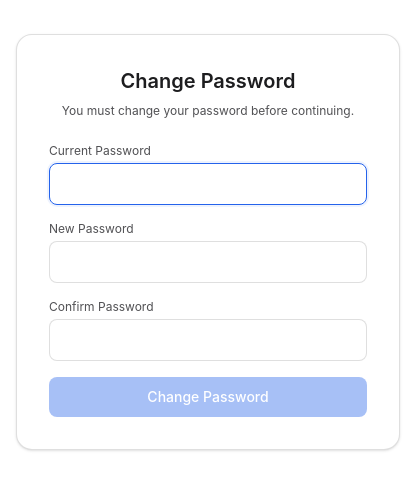
Test: ChangePasswordPage › announces validation errors and associates them with password controls
Type "current" into the password field labelled "Current Password". click: (208, 184)
box: [49,163,367,205]
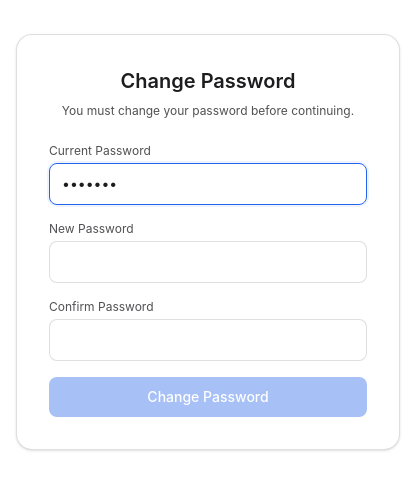
Type "secret" into the password field labelled "New Password". click: (208, 262)
box: [49,241,367,283]
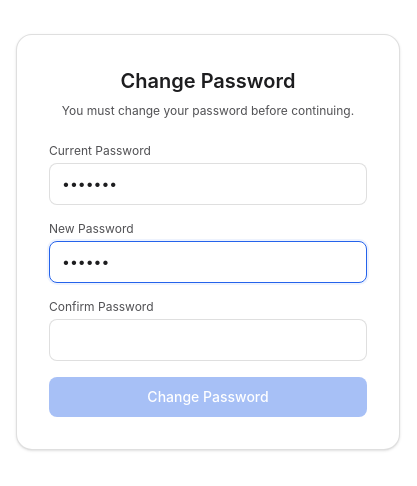
Type "different" into the password field labelled "Confirm Password". click: (208, 340)
box: [49,319,367,361]
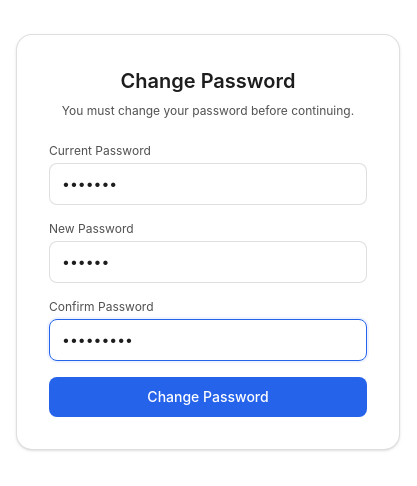
Click the button "Change Password". click: (208, 397)
box: [49,377,367,417]
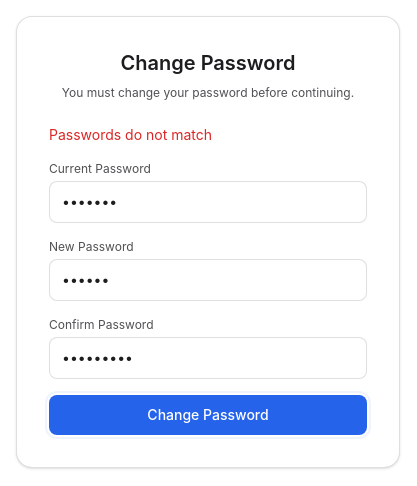
Now the message reads "Passwords do not match", box [49,126,212,143]
